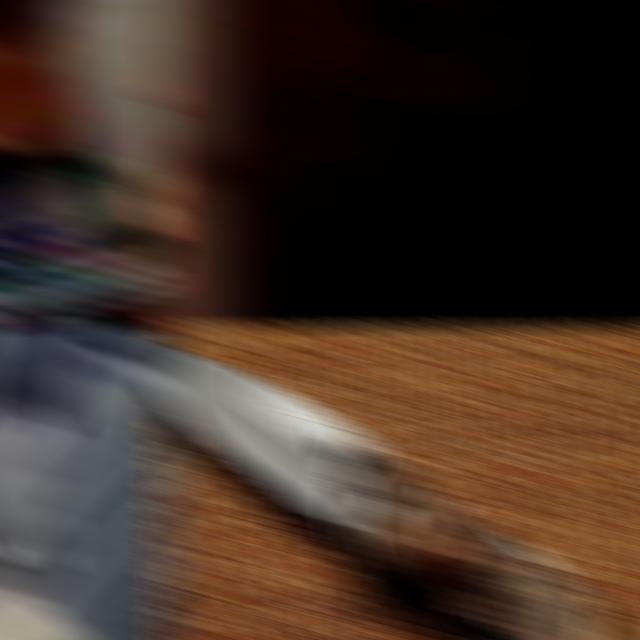Knife_Handle: (156, 0, 640, 185)
